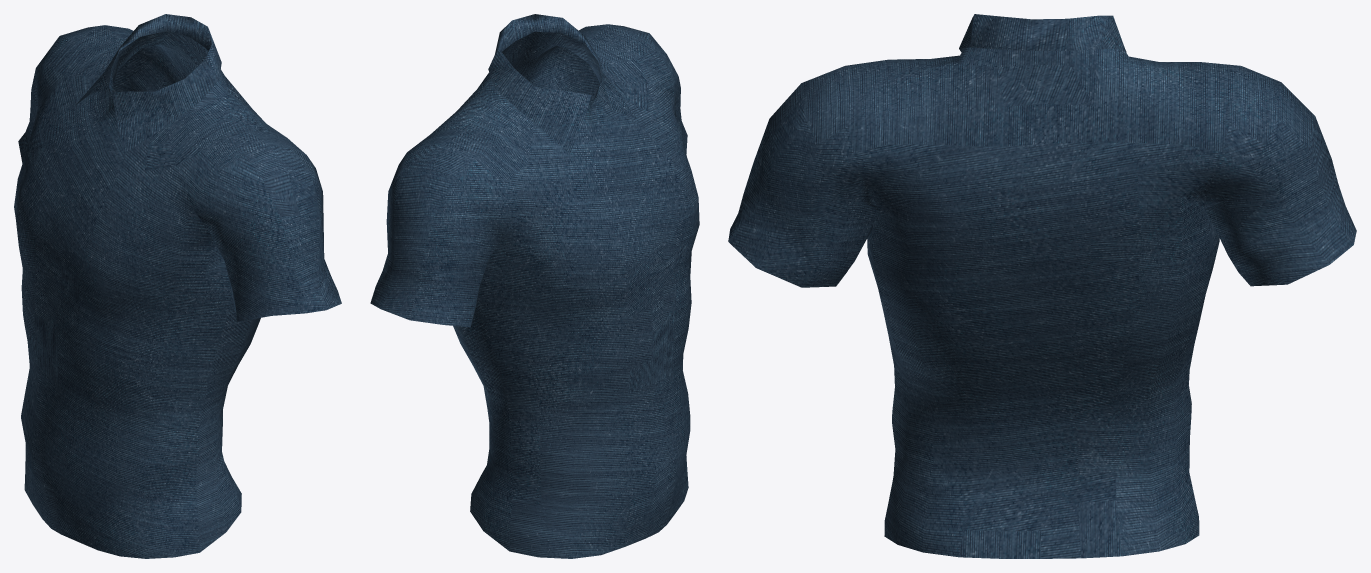
The model's file is yifu04_1.fbx.
The picture shows the model from 3 angles, left to right: view 1: azimuth 30°, elevation 25°; view 2: azimuth 150°, elevation 25°; view 3: azimuth 270°, elevation 25°; orthographic projection. The views are drawn at different scales.
Parts seen in each view (by area): view 1: yifu04_1; view 2: yifu04_1; view 3: yifu04_1.
Boxes of the visible parts, box(x1,y1,x2,y2) form: yifu04_1: box(14, 14, 341, 558); yifu04_1: box(370, 14, 699, 558); yifu04_1: box(728, 14, 1356, 558).
Size of the model in its own units: 28.35 by 63.58 by 64.25.
